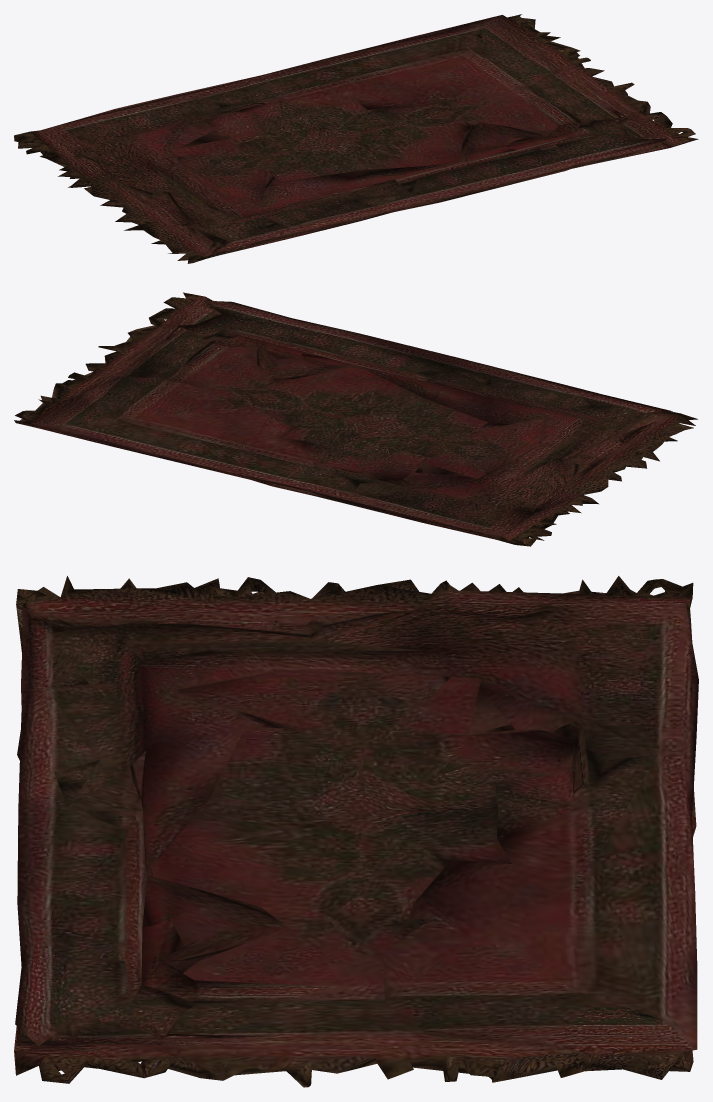
File: rug.glb
3 renders of one model, top to bottom at view 1: azimuth 30°, elevation 25°; view 2: azimuth 150°, elevation 25°; view 3: azimuth 270°, elevation 25°, orthographic. The views are drawn at different scales.
Parts seen in each view (by area): view 1: rug; view 2: rug; view 3: rug.
Part boxes in pixels (x1,y1,x2,y2): rug: (14,14,698,263); rug: (14,292,697,546); rug: (14,576,698,1087).
Size of the model in its own units: 4.4 by 0.04 by 2.5.
Materials: 1 (1 with a texture image).
